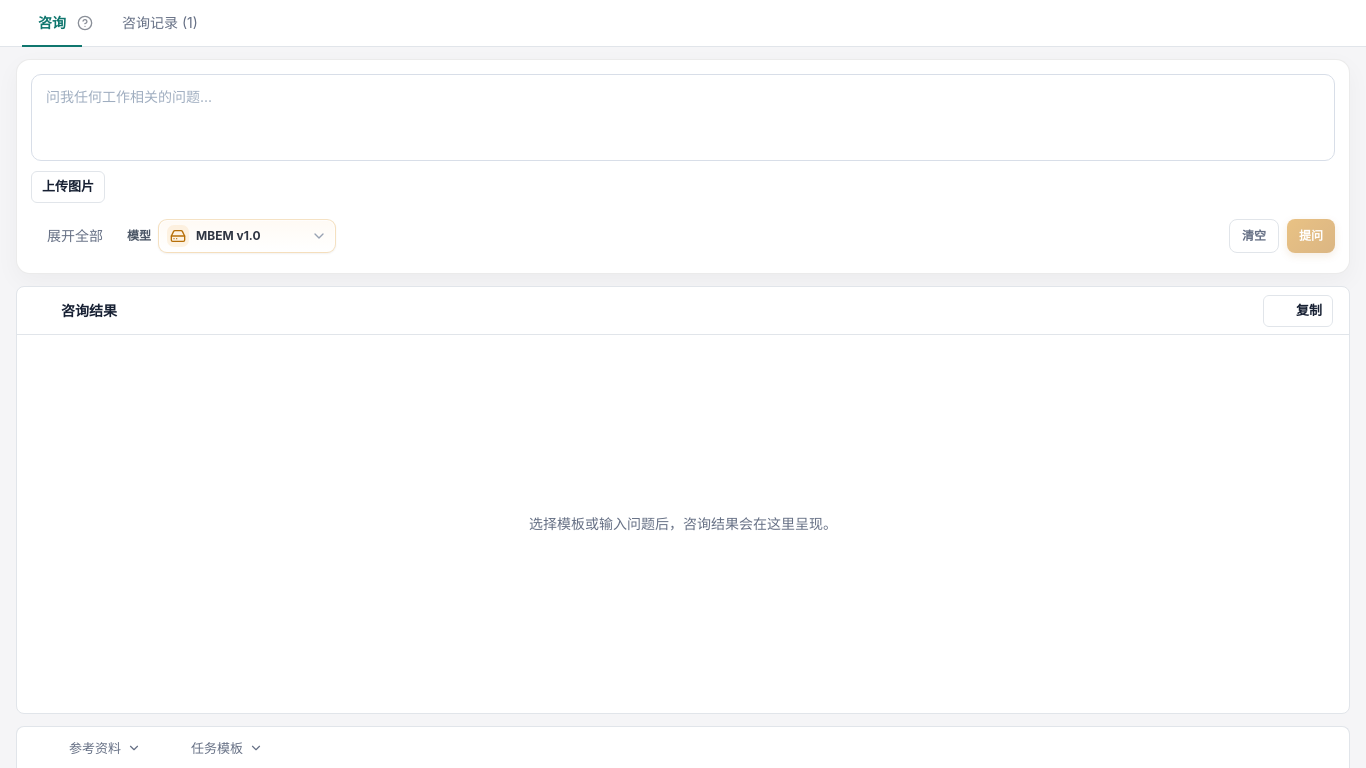
Scenario: 咨询历史截图 › 原文件丢失时明确提示，文字记录仍可查看
What coordinates should you click on to do the following:
click the button "咨询记录 (1)"
I would click on:
 (160, 24)
Its box is [106,0,214,47].
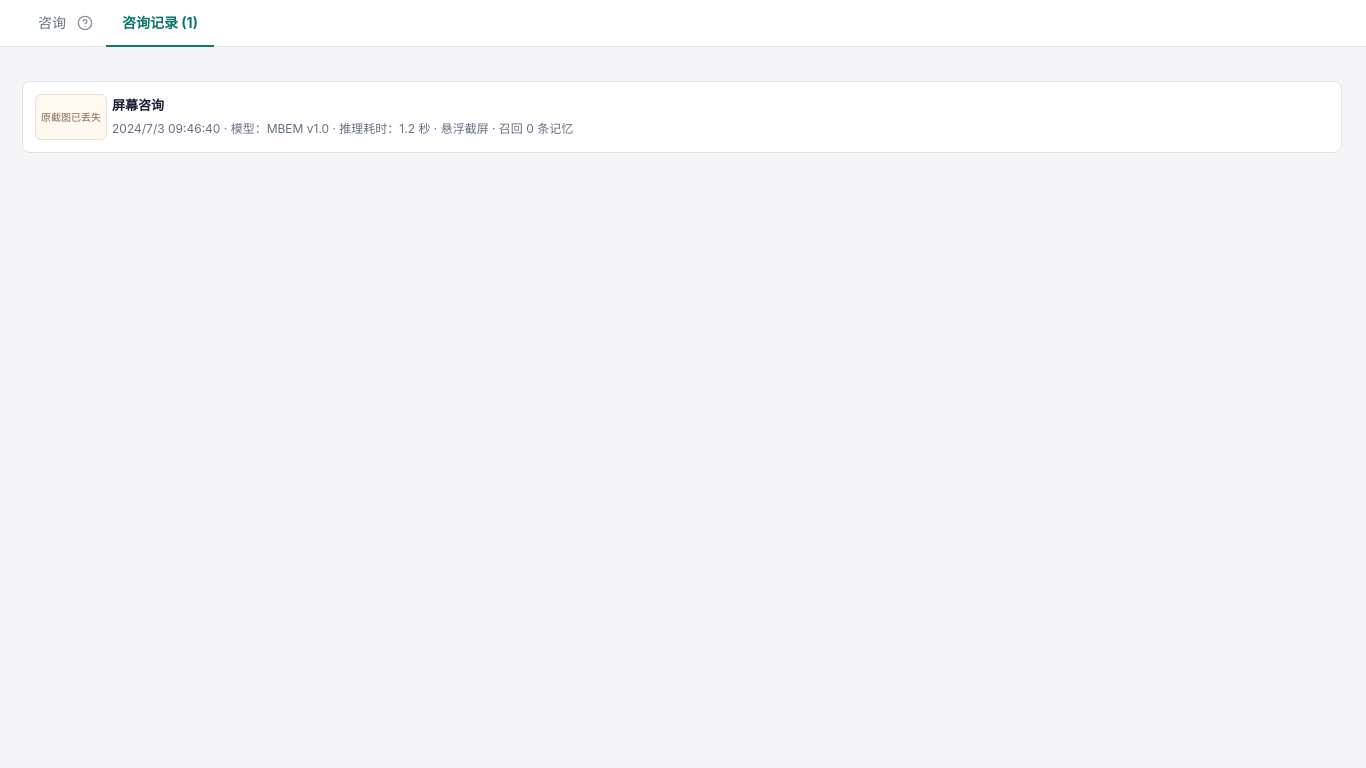
Result: the text "屏幕咨询" is shown at [112,97,164,113]
